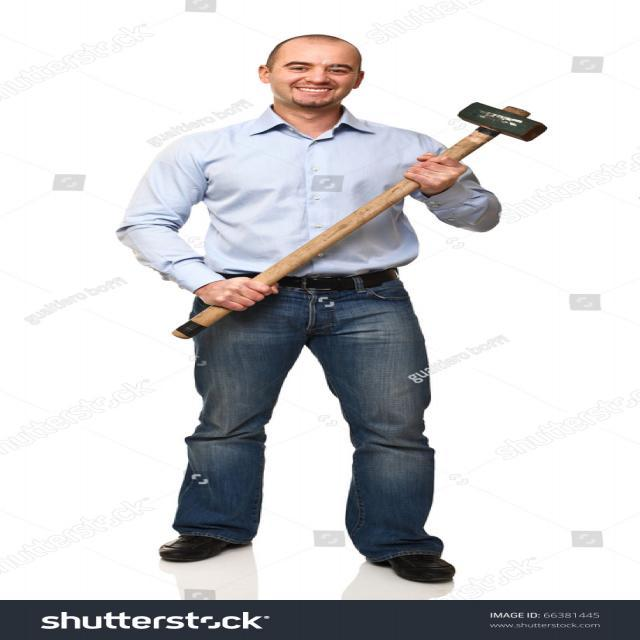hammer: (144, 96, 552, 355)
